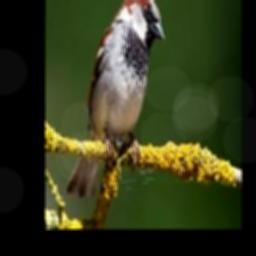Sparrow: (66, 0, 165, 196)
